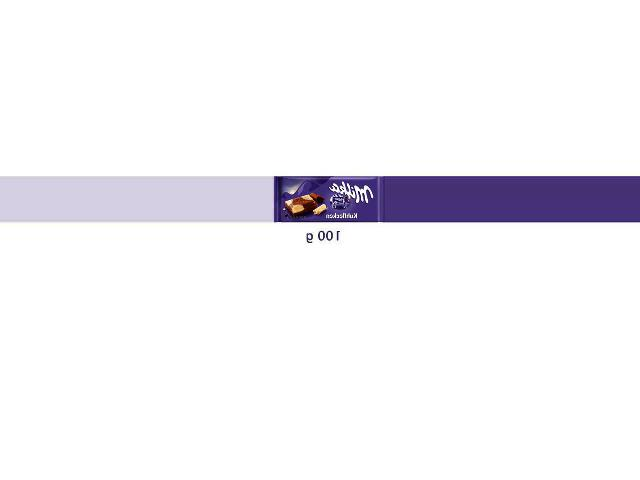chocolate: (272, 174, 383, 229)
